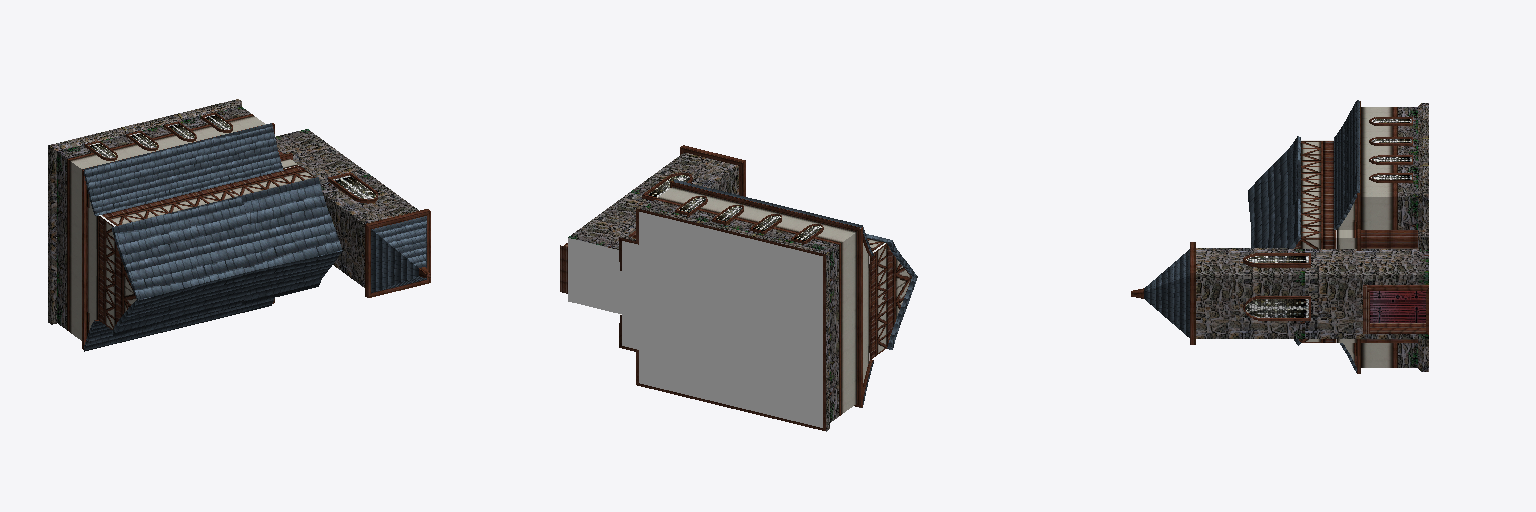
3 renders of one model, left to right at view 1: azimuth 30°, elevation 25°; view 2: azimuth 150°, elevation 25°; view 3: azimuth 270°, elevation 25°, orthographic.
Visible parts, largest first — view 1: twnhouse; view 2: twnhouse; view 3: twnhouse.
Boxes of the visible parts, x1,y1,x2,y2 form: twnhouse: [48, 99, 430, 351]; twnhouse: [560, 145, 917, 431]; twnhouse: [1131, 100, 1428, 373].
Bounding box in the file's own units: 173 × 113 × 168.
Materials: 1 (1 with a texture image).